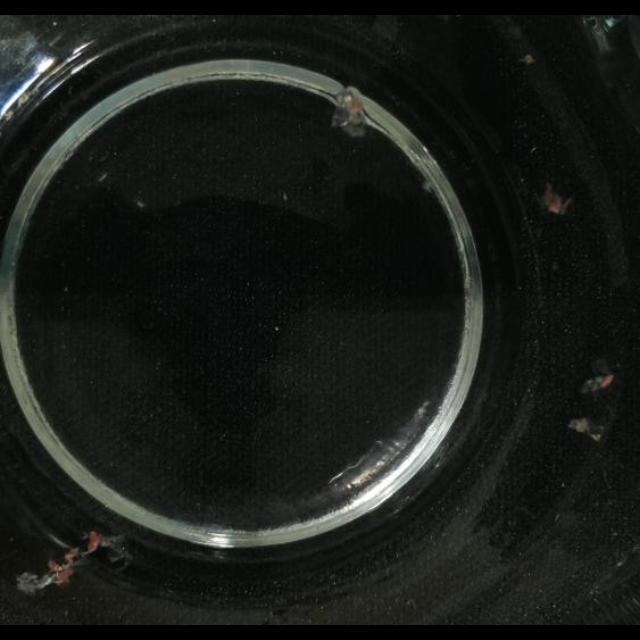Fragment: (16, 530, 126, 598), (322, 87, 386, 141), (540, 183, 574, 215), (568, 416, 606, 442), (580, 372, 614, 394)
microbeads: (520, 53, 534, 65), (282, 192, 288, 202), (274, 325, 280, 331)
